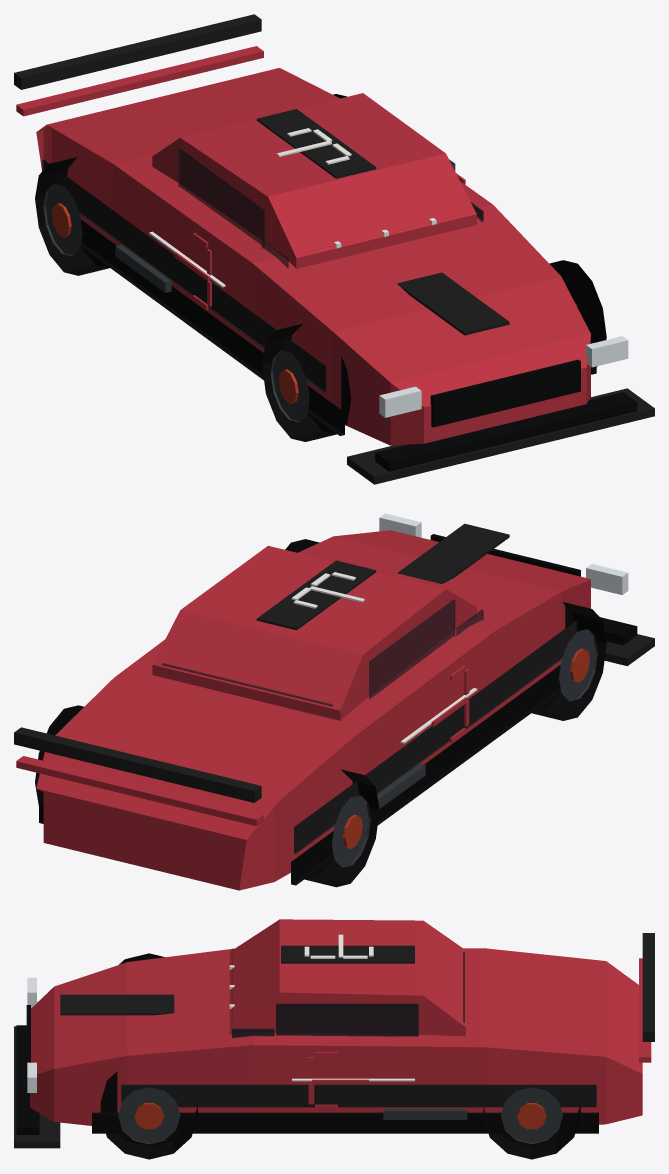
File: stock_car_03.obj
3 views of the same model, one above another, from view 1: azimuth 30°, elevation 25°; view 2: azimuth 150°, elevation 25°; view 3: azimuth 270°, elevation 25° (orthographic). The views are drawn at different scales.
Parts seen in each view (by area): view 1: StockCar_03; view 2: StockCar_03; view 3: StockCar_03.
Part boxes in pixels (box(x1,y1,x2,y2)): StockCar_03: box(14, 14, 654, 484); StockCar_03: box(14, 513, 654, 890); StockCar_03: box(14, 919, 654, 1159).
Bounding box in the file's own units: 2.35 × 1.34 × 5.26.
